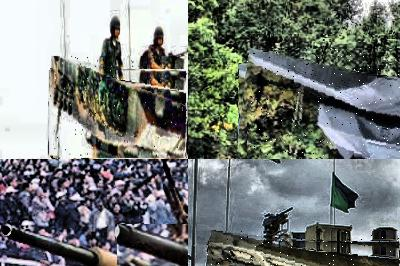tanks: (248, 49, 400, 160), (52, 57, 188, 158), (209, 232, 392, 266), (4, 226, 147, 266), (118, 226, 189, 266)
